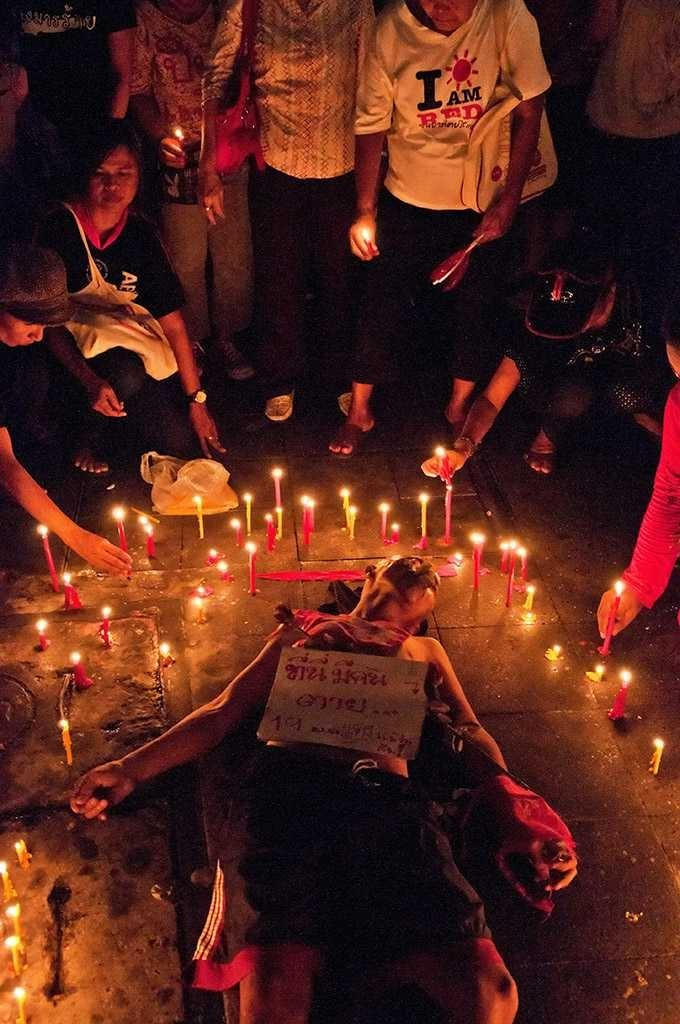fire: (202, 470, 360, 540), (460, 515, 542, 588), (0, 845, 35, 998)
